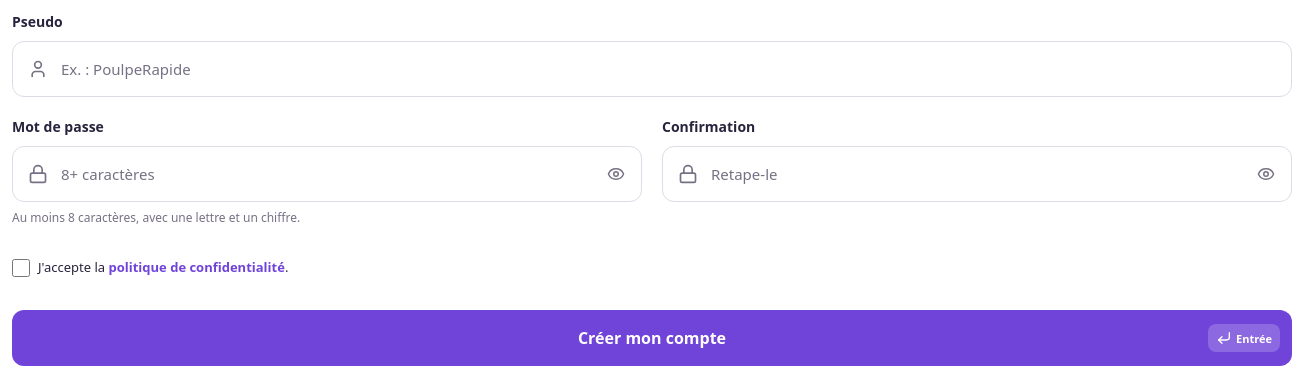
Test: RegisterForm › cliquer sur le libellé de la case la coche
This screenshot has width=1304, height=383.
Click the text "J'accepte la ". click: (163, 268)
box: [38,259,288,277]
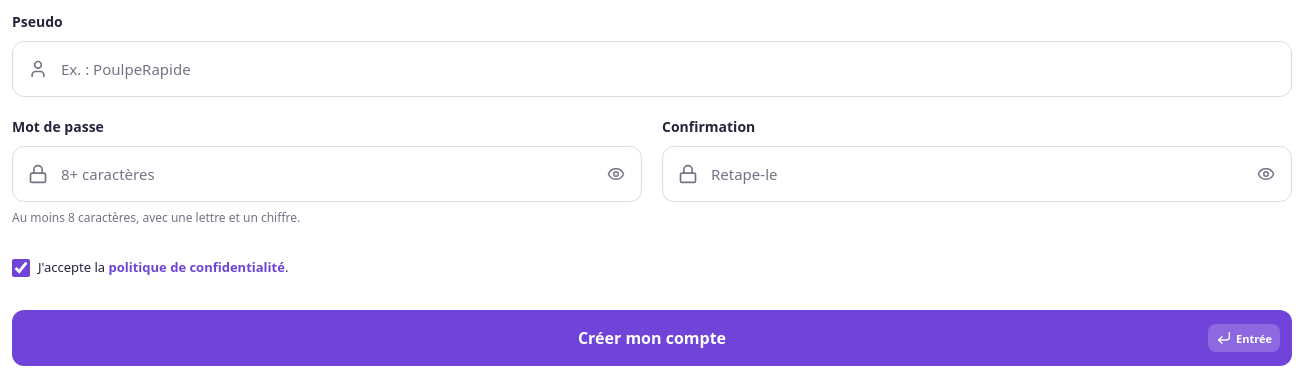
Result: the checkbox is checked at [12,259,30,277]
